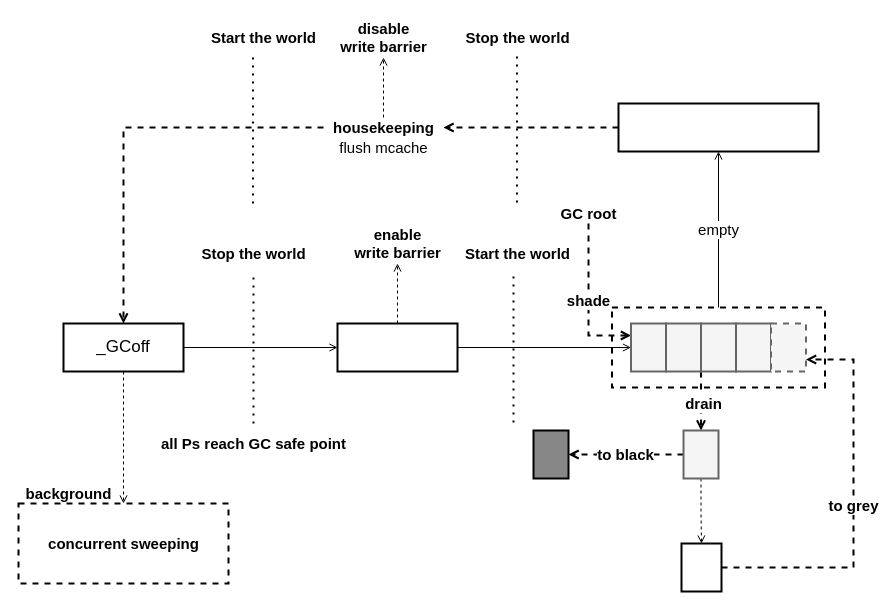
The diagram is 895 pixels wide and 609 high, and some of its shapes have lost their labels. Each missing label, with the centre of its shape:
_GCmark: the point at 397,347
_GCmarkermination: the point at 718,127
